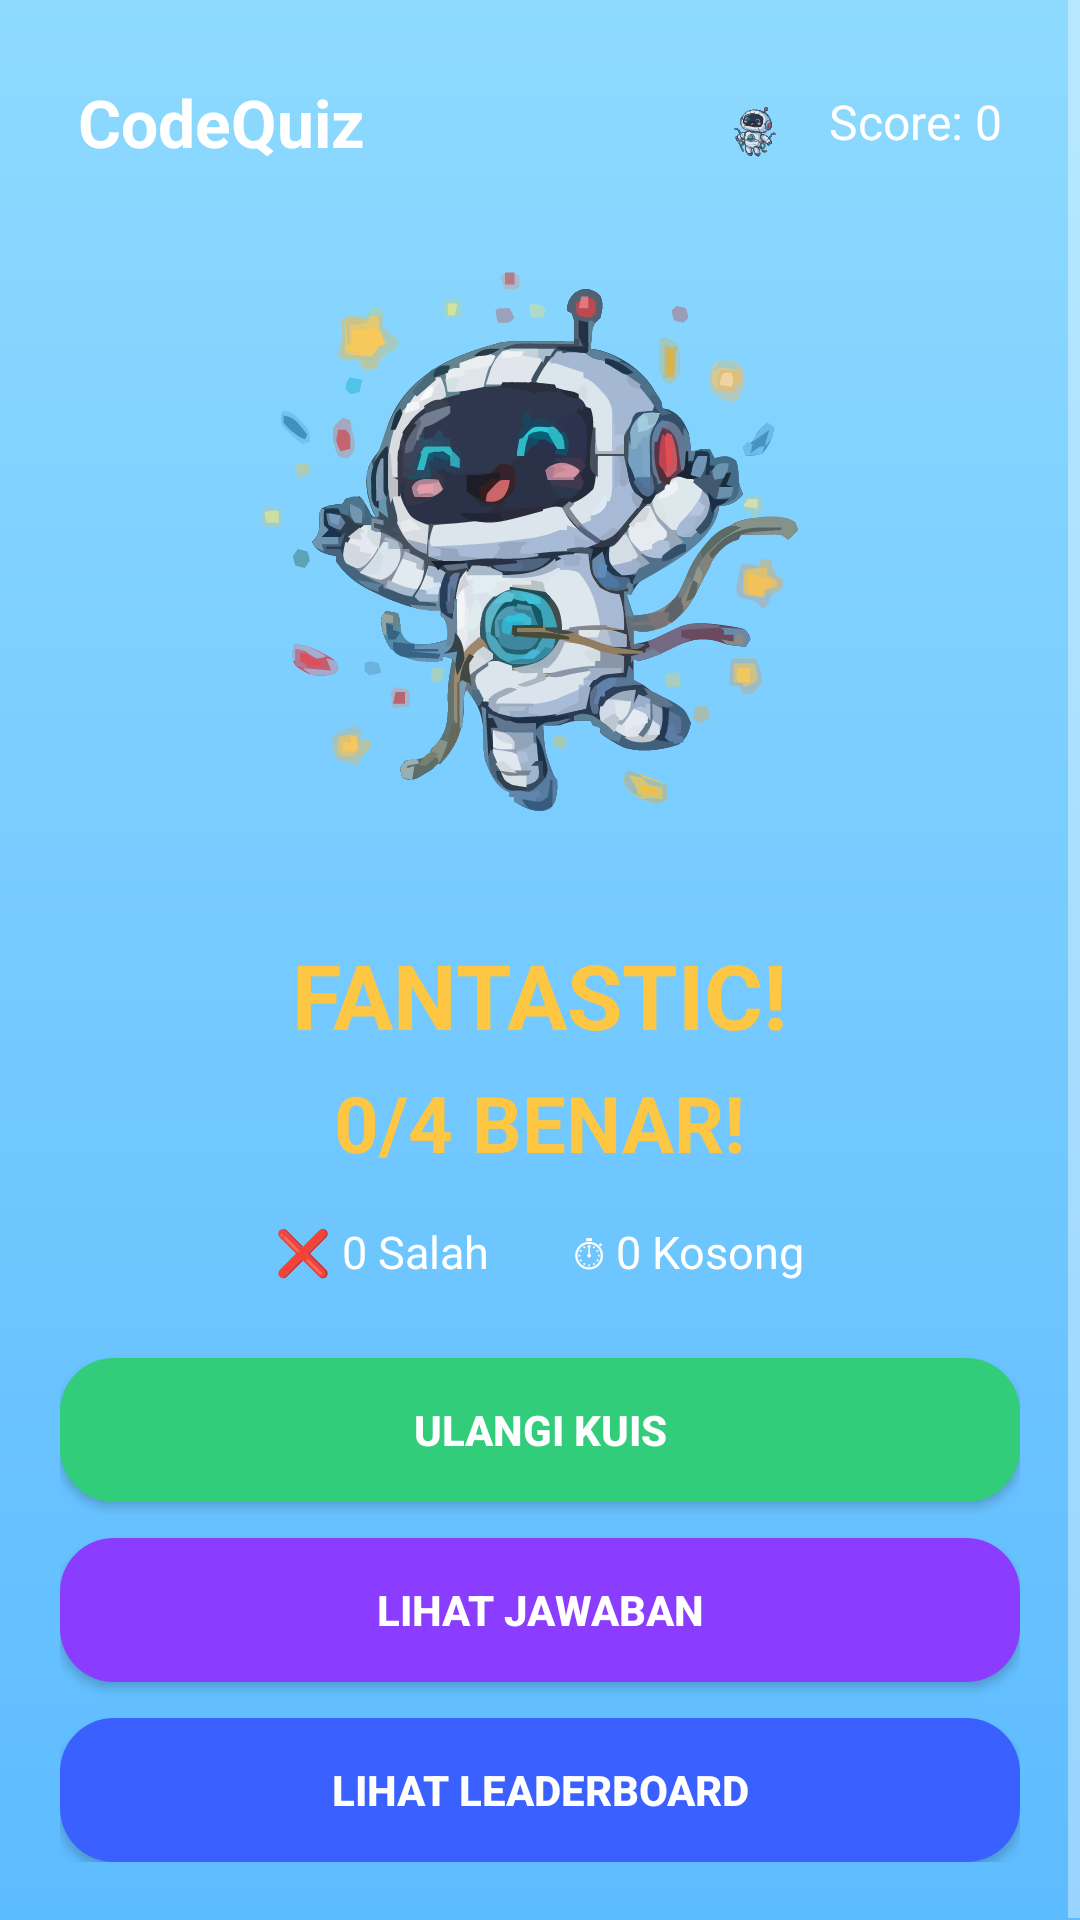

Icons on this 1080 × 1920 Android screen, each with its box as (x1, y1, x2, y2):
robot quiz: (734, 107, 776, 157)
